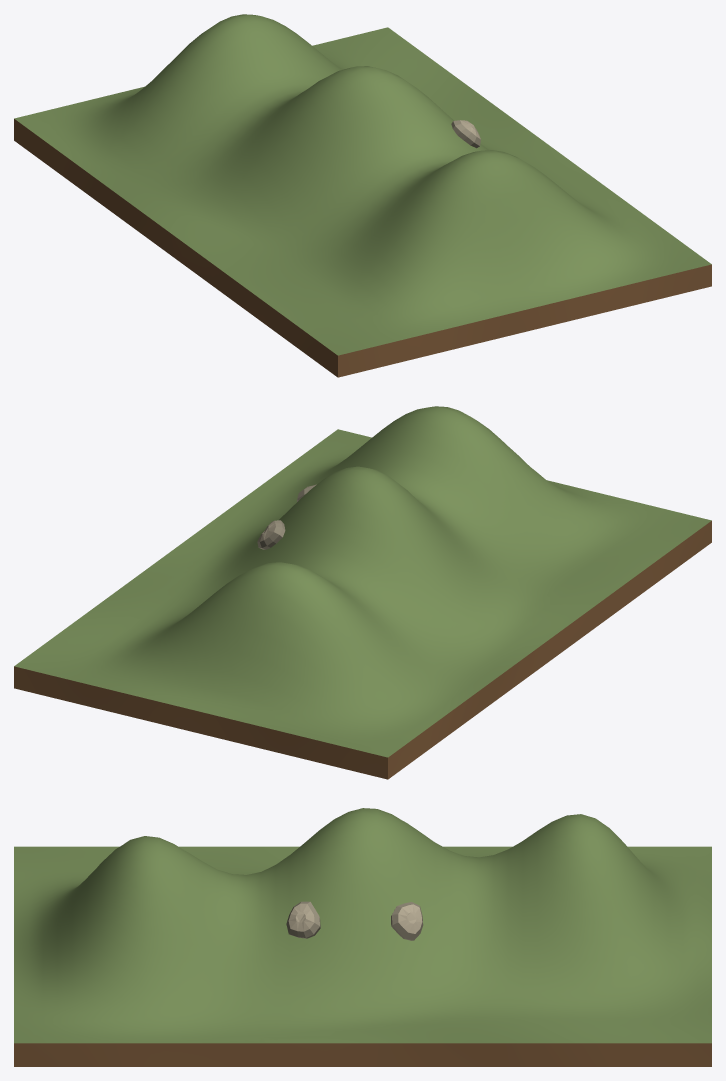
The model's file is Environment_Hills_RollingRidge24m_001.glb.
3 views of the same model, one above another, from view 1: azimuth 30°, elevation 25°; view 2: azimuth 150°, elevation 25°; view 3: azimuth 270°, elevation 25° (orthographic). The views are drawn at different scales.
Parts seen in each view (by area): view 1: HL_RollingRidge24m_Body; view 2: HL_RollingRidge24m_Body; view 3: HL_RollingRidge24m_Body.
Part boxes in pixels (x1,y1,x2,y2): HL_RollingRidge24m_Body: (14, 14, 711, 377); HL_RollingRidge24m_Body: (14, 406, 711, 779); HL_RollingRidge24m_Body: (14, 808, 711, 1066).
Bounding box in the file's own units: 16 × 5.9 × 24.
